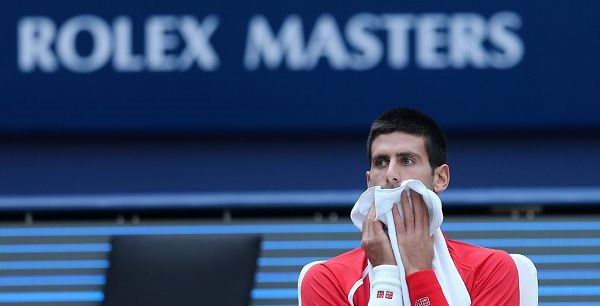face: (371, 140, 433, 222)
